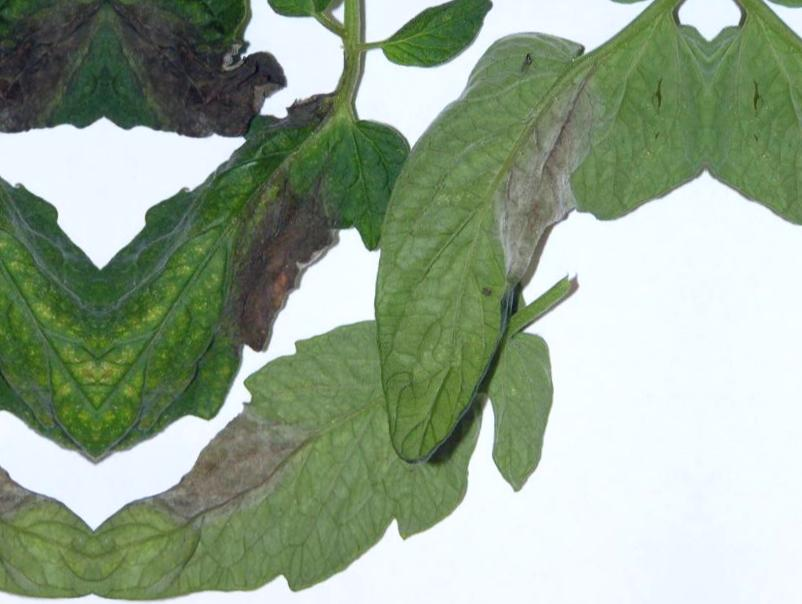Tomato leaf late blight: (362, 4, 702, 465), (93, 275, 549, 604), (98, 95, 402, 477)
